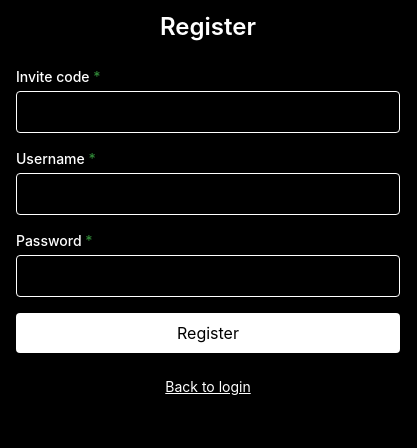
Test case: RegisterView › shows an error message when registration fails
Type "EXPIRED" into the field labelled "Invite code *" at [208, 112], box [16,91,400,133]
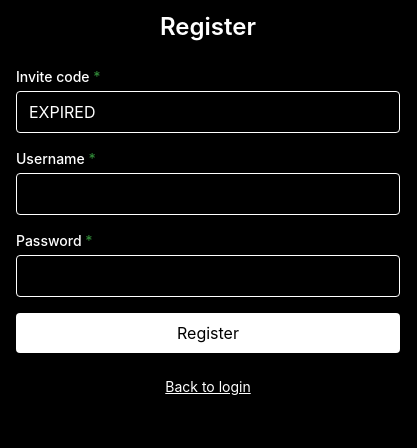
Type "anna" into the field labelled "Username *" at [208, 194], box [16,173,400,215]
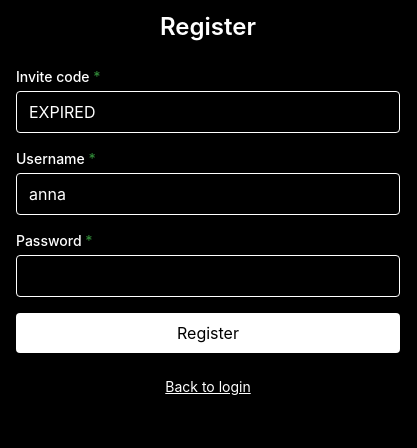
Type "secret123" into the password field labelled "Password *" at [208, 276], box [16,255,400,297]
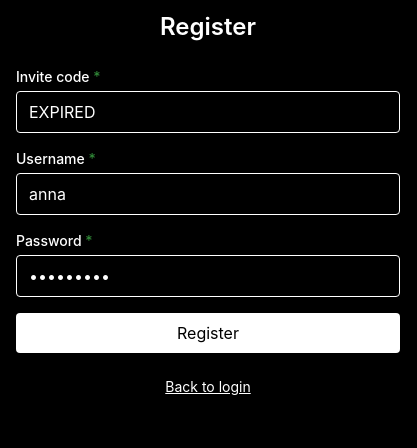
Click the button "Register" at [208, 333], box [16,313,400,353]
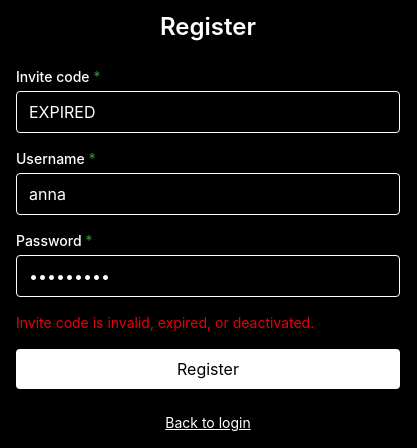
Expected: the text "Invite code is invalid, expired, or deactivated." is shown, [16,314,314,331]
